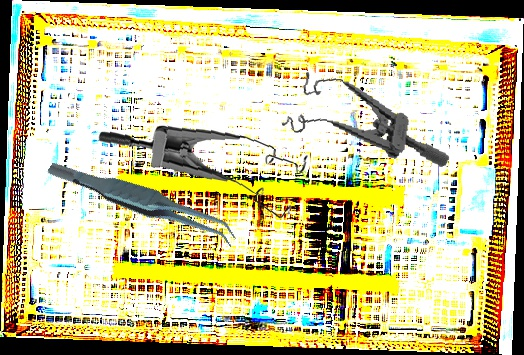Speculum: (97, 113, 313, 233), (277, 68, 460, 169)
Tissue Forceps: (46, 125, 241, 279)
